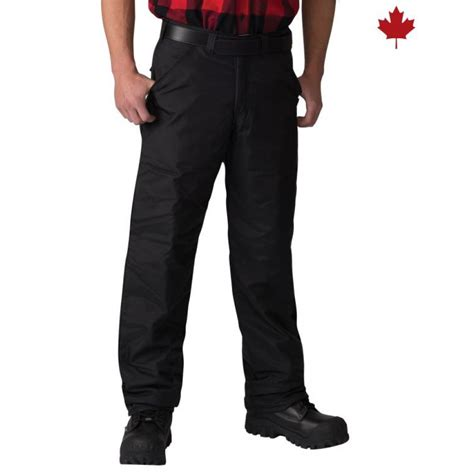nylon: (118, 21, 312, 416)
